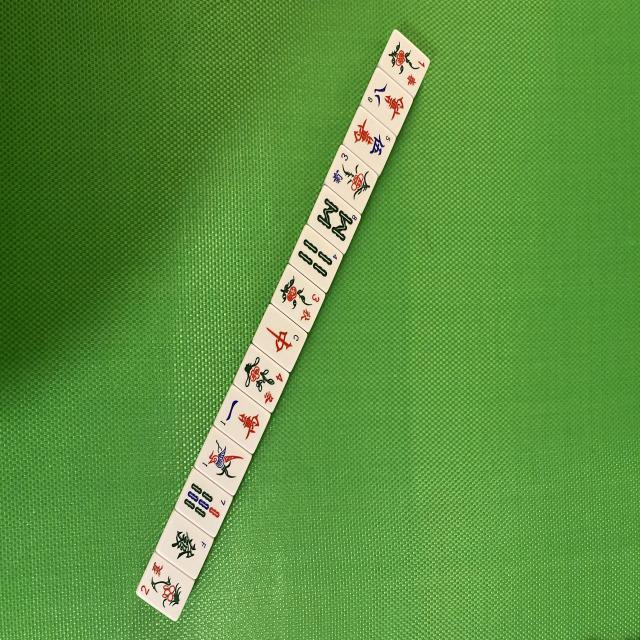bf3: (323, 143, 380, 214)
bs1: (378, 32, 430, 100)
bs2: (136, 552, 197, 624)
bs3: (270, 266, 326, 335)
bs4: (234, 344, 294, 414)
hdg: (153, 509, 214, 582)
hdr: (251, 303, 310, 373)
sb1: (192, 424, 253, 496)
sb4: (288, 227, 345, 294)
sb7: (173, 469, 236, 540)
sb8: (306, 185, 364, 255)
sc1: (214, 385, 274, 456)
sc5: (340, 106, 397, 176)
sc8: (360, 68, 416, 138)
